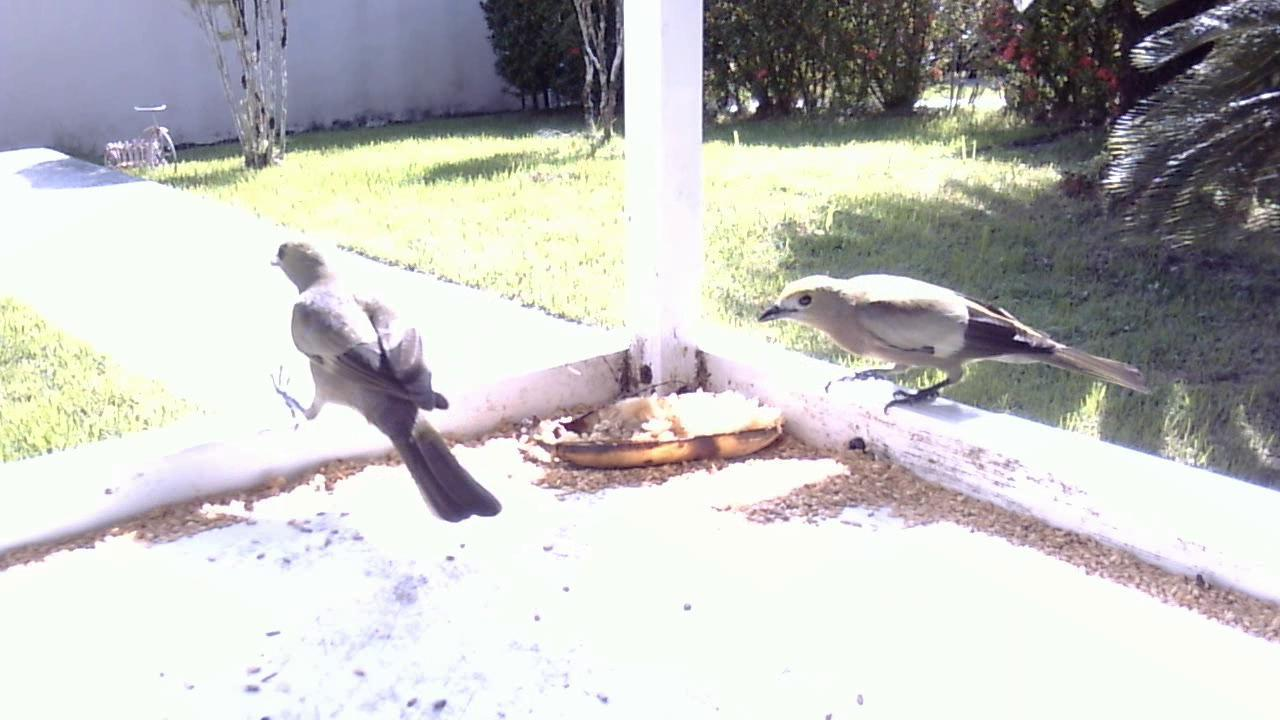sanhaco_do_coqueiro: (239, 234, 513, 526), (753, 259, 1146, 434)
